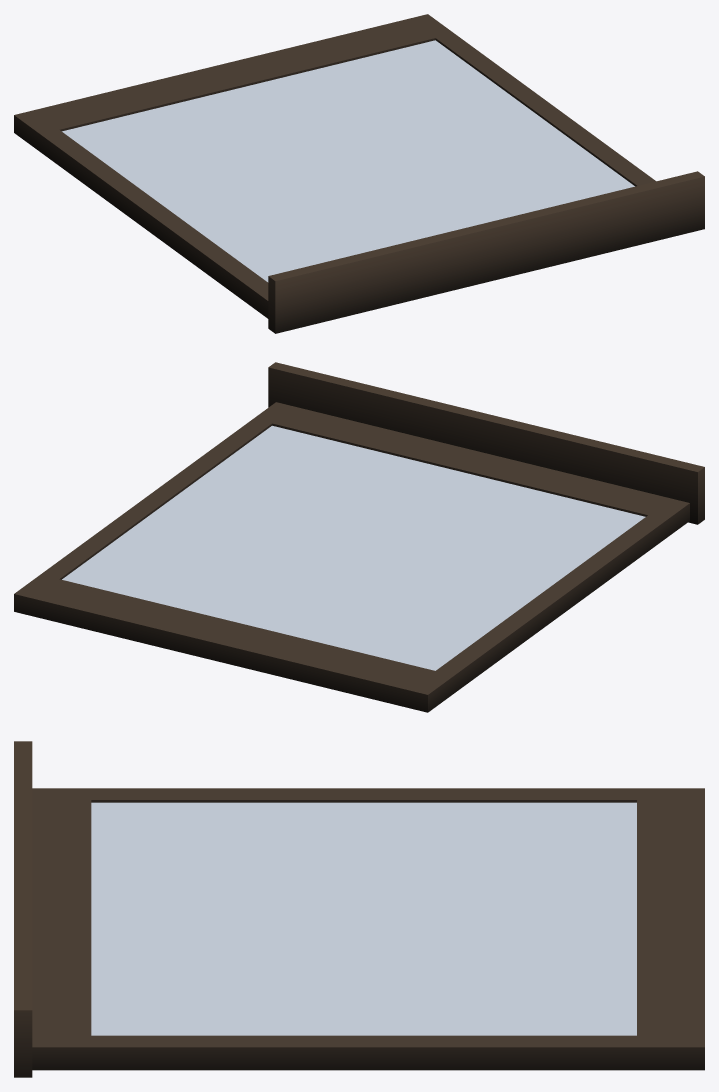
The model's file is Dryer_M_LintScreen_0_Laundromat.fbx.
The picture shows the model from 3 angles, top to bottom: view 1: azimuth 30°, elevation 25°; view 2: azimuth 150°, elevation 25°; view 3: azimuth 270°, elevation 25°; orthographic projection. The views are drawn at different scales.
Visible parts, largest first — view 1: Dryer_M_LintScreen_0.Laundromat; view 2: Dryer_M_LintScreen_0.Laundromat; view 3: Dryer_M_LintScreen_0.Laundromat.
Boxes of the visible parts, bbox=[...] form: Dryer_M_LintScreen_0.Laundromat: bbox=[14, 14, 704, 333]; Dryer_M_LintScreen_0.Laundromat: bbox=[14, 362, 704, 712]; Dryer_M_LintScreen_0.Laundromat: bbox=[14, 741, 704, 1077].
Size of the model in its own units: 51.74 by 6.06 by 56.18.
1 material, 1 textured.
